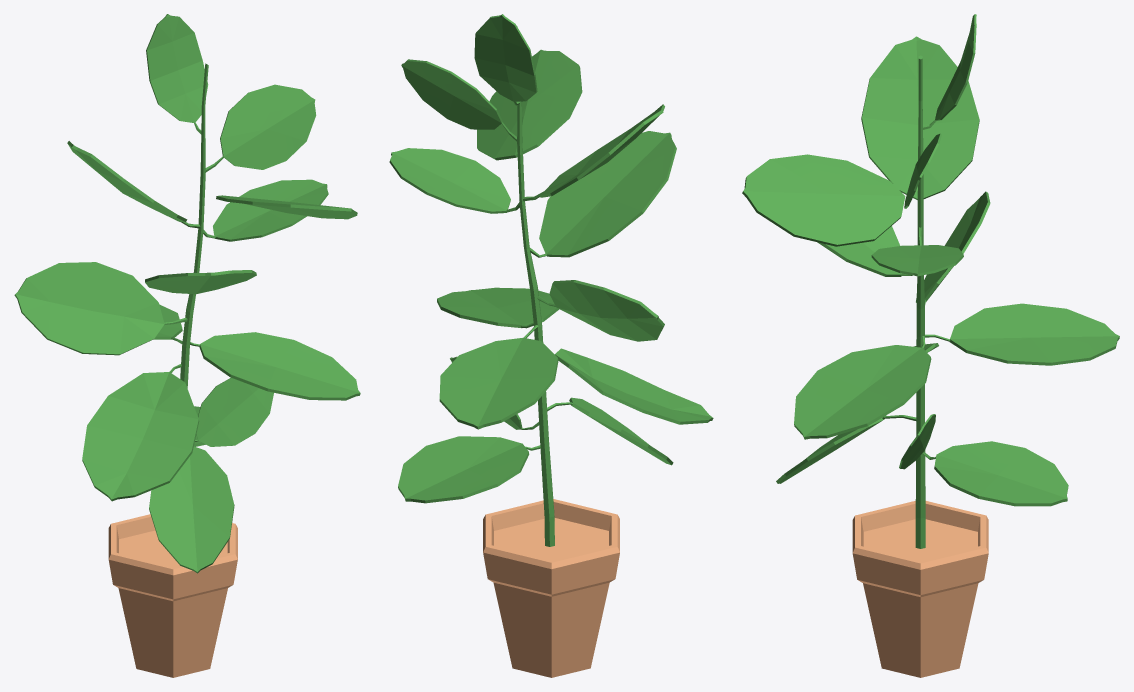
The picture shows the model from 3 angles, left to right: view 1: azimuth 30°, elevation 25°; view 2: azimuth 150°, elevation 25°; view 3: azimuth 270°, elevation 25°; orthographic projection. The views are drawn at different scales.
Parts seen in each view (by area): view 1: lowpoly.taobao.com.007; view 2: lowpoly.taobao.com.007; view 3: lowpoly.taobao.com.007.
Boxes of the visible parts, left/top/right/bottom form: lowpoly.taobao.com.007: left=14, top=14, right=360, bottom=677; lowpoly.taobao.com.007: left=389, top=14, right=713, bottom=677; lowpoly.taobao.com.007: left=742, top=14, right=1119, bottom=677.
Bounding box in the file's own units: 134 × 283 × 148.
